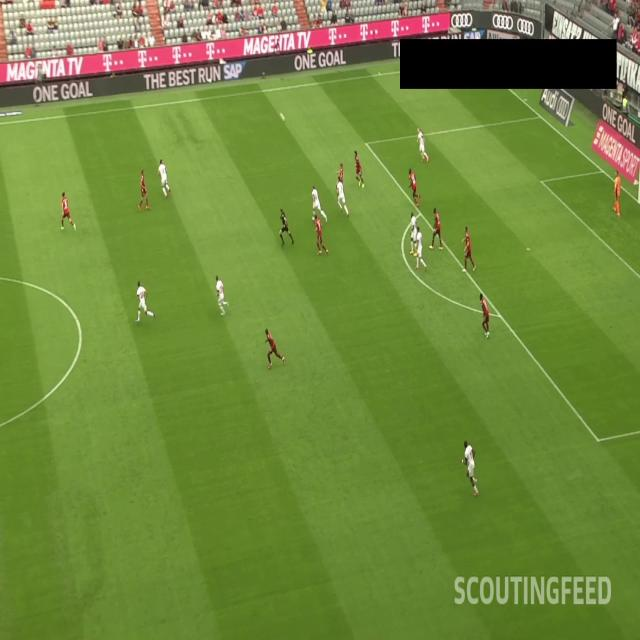ball: (279, 110, 286, 124)
player: (459, 438, 482, 497), (264, 326, 286, 371), (134, 281, 156, 323), (462, 222, 478, 272), (59, 190, 77, 232), (312, 182, 328, 225), (313, 215, 330, 255), (137, 167, 151, 215), (478, 292, 492, 340), (214, 274, 229, 318), (414, 226, 428, 273), (430, 205, 444, 252), (157, 157, 172, 200), (336, 176, 350, 220), (408, 164, 422, 206), (415, 126, 429, 164), (611, 168, 621, 220), (354, 149, 365, 190), (335, 159, 345, 200), (410, 208, 418, 256)
referee: (276, 203, 294, 251)
